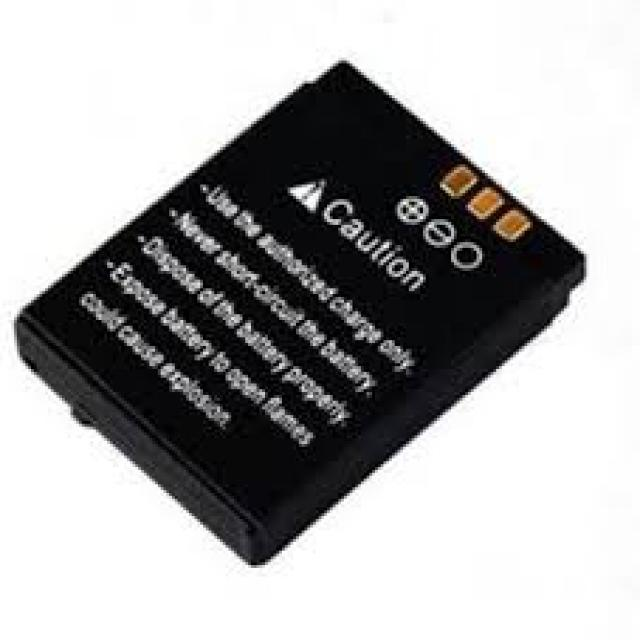battery: (15, 54, 586, 564)
